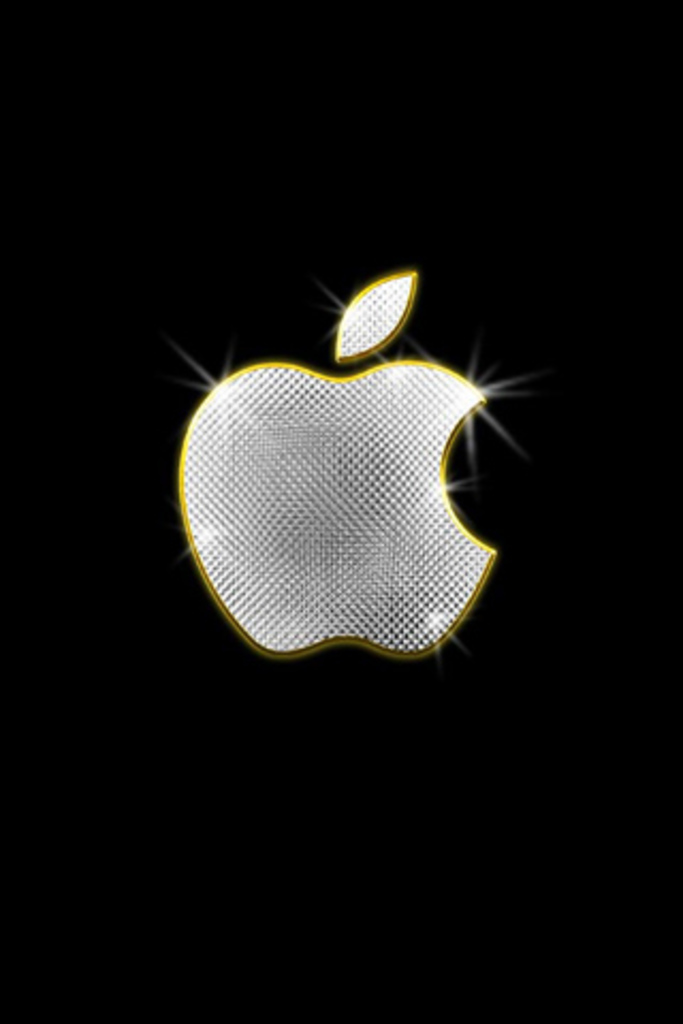Apple: (189, 268, 527, 633)
